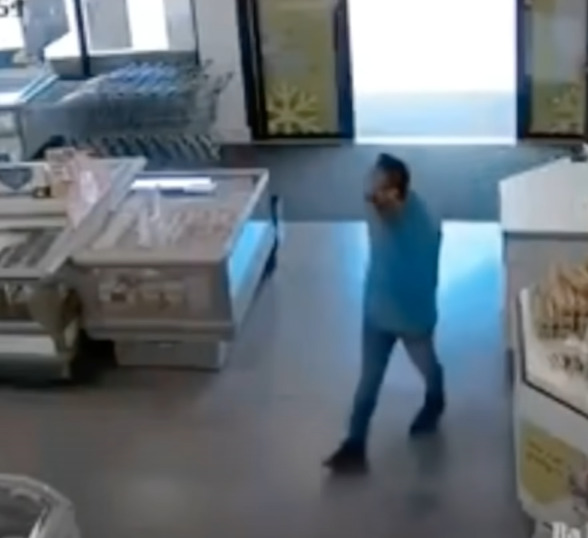person: (321, 152, 448, 473)
